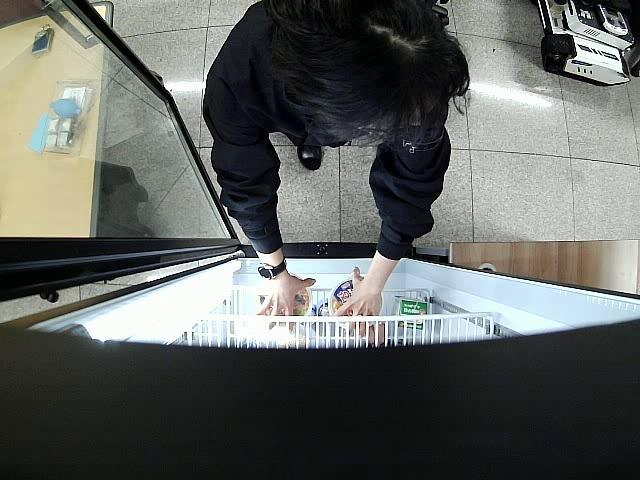09_yukGaeJang: (330, 276, 374, 332), (260, 288, 312, 325)
